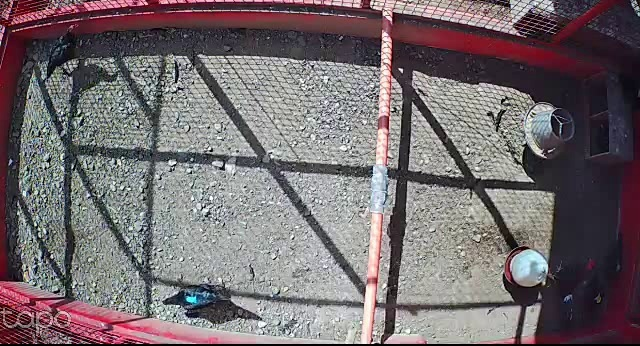Chicken: (156, 282, 237, 315), (46, 21, 84, 82), (602, 231, 629, 299), (583, 271, 611, 328)
Drinker: (503, 246, 551, 292)
Feeder: (522, 101, 576, 160)
Rooster: (543, 251, 599, 334)
Saddle_Color_Yellow: (595, 292, 604, 303)
